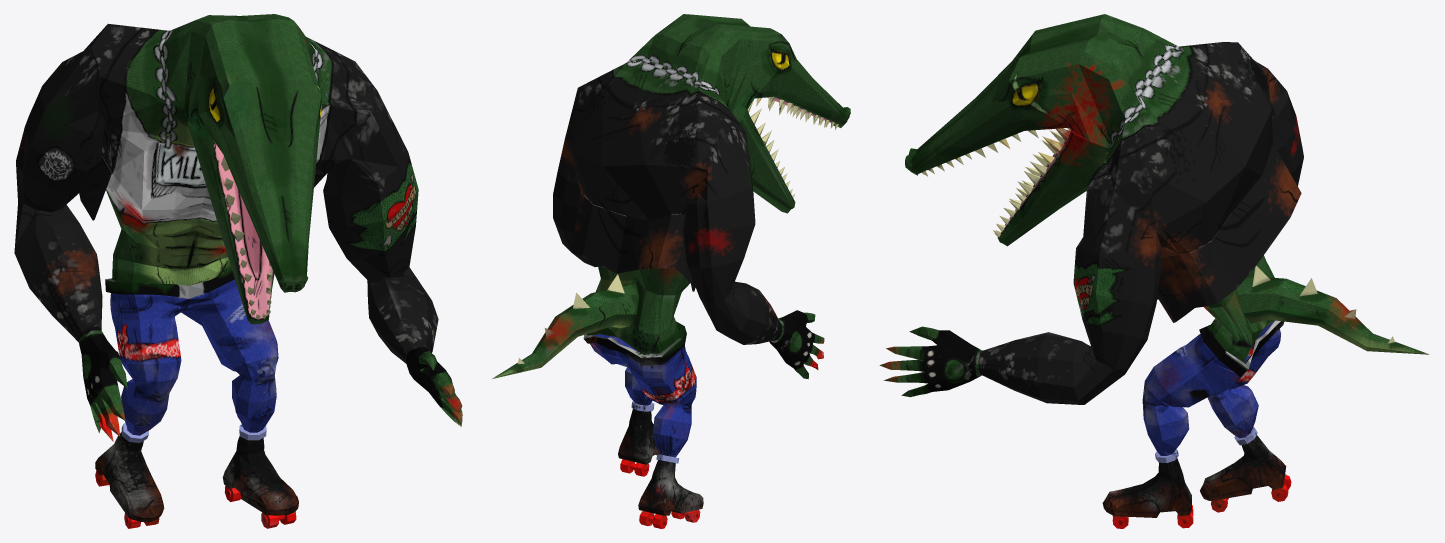
The model's file is cocodrilaBonesSelect_000006.obj.
3 views of the same model, side by side, from view 1: azimuth 30°, elevation 25°; view 2: azimuth 150°, elevation 25°; view 3: azimuth 270°, elevation 25° (orthographic). The views are drawn at different scales.
Visible parts, largest first — view 1: Crocodile.002_Cylinder.002; view 2: Crocodile.002_Cylinder.002; view 3: Crocodile.002_Cylinder.002.
Boxes of the visible parts, bbox=[...] form: Crocodile.002_Cylinder.002: bbox=[14, 14, 462, 528]; Crocodile.002_Cylinder.002: bbox=[491, 14, 850, 528]; Crocodile.002_Cylinder.002: bbox=[879, 14, 1429, 528].
Size of the model in its own units: 3.68 by 6.14 by 6.17.
